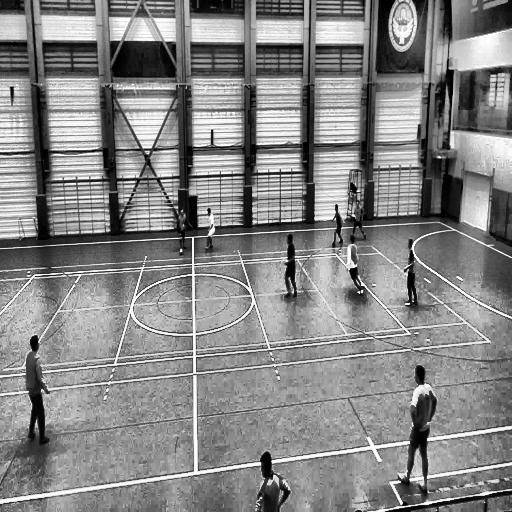ball: (179, 248, 183, 255)
player: (395, 364, 436, 494), (22, 334, 50, 442), (346, 233, 365, 295), (402, 238, 416, 306), (284, 233, 297, 299), (331, 203, 345, 247), (353, 200, 368, 240), (205, 207, 217, 248), (178, 208, 188, 250)
